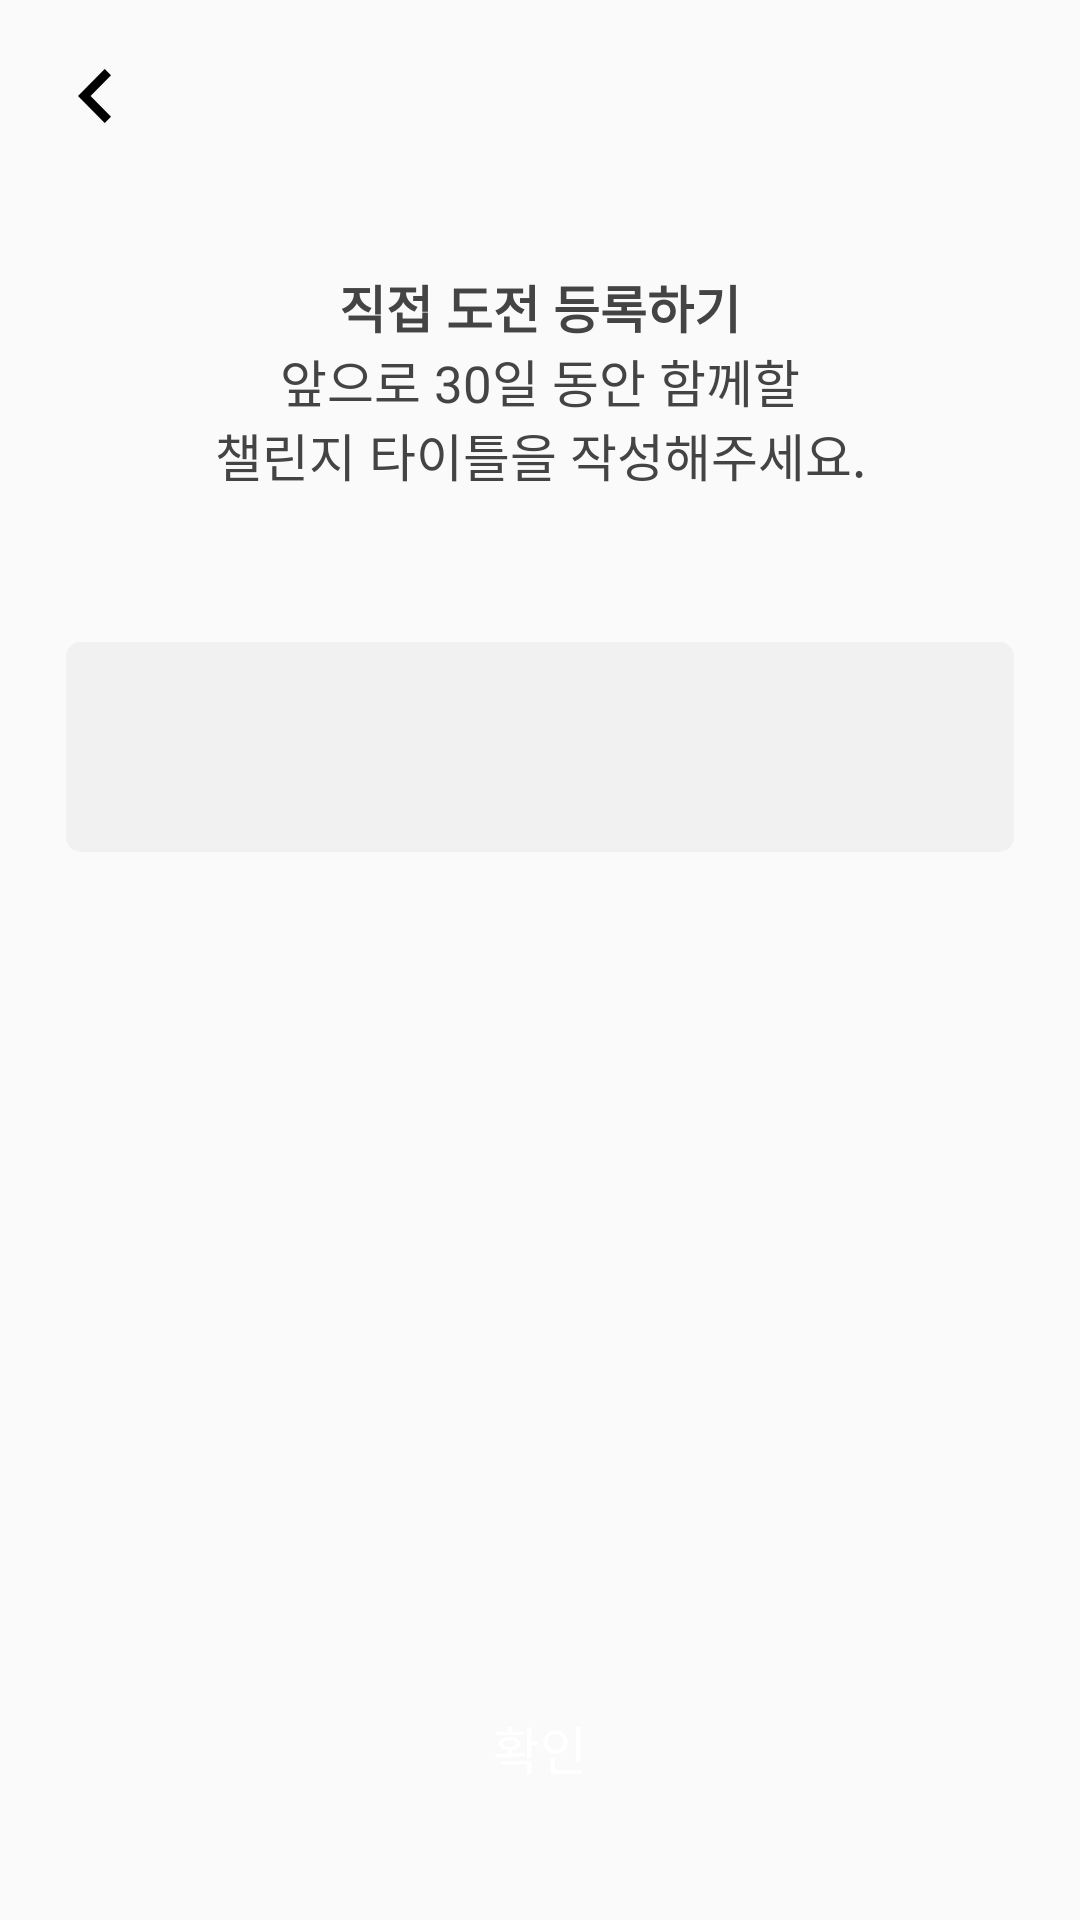

Screen size 1080×1920. Icon name, then its center in pixels as (x,y):
leave: (94,96)
